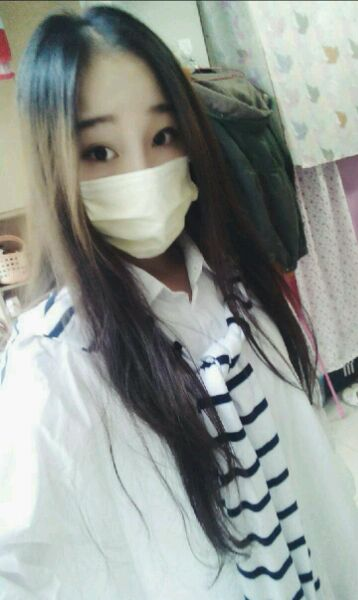face_mask: (66, 43, 189, 253)
